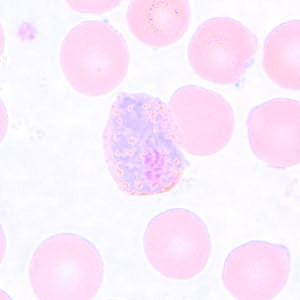Infected: (101, 91, 190, 198)
Uninfected: (59, 20, 130, 96), (142, 207, 212, 280), (28, 234, 105, 300), (186, 17, 259, 84), (168, 86, 237, 155), (222, 239, 291, 300), (246, 98, 300, 171), (128, 0, 191, 48), (262, 18, 300, 93)
